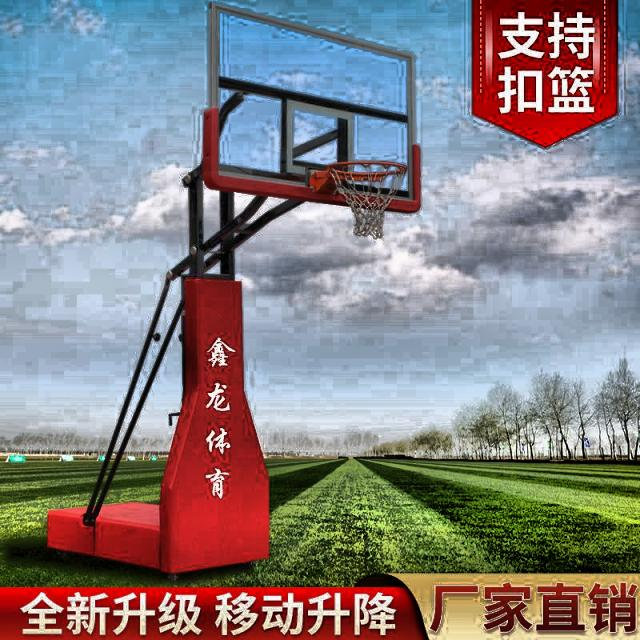rim: (331, 160, 407, 238)
